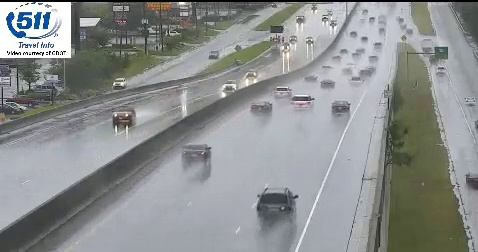car: (257, 188, 295, 217), (183, 144, 211, 164), (290, 94, 312, 110), (332, 101, 350, 114)
